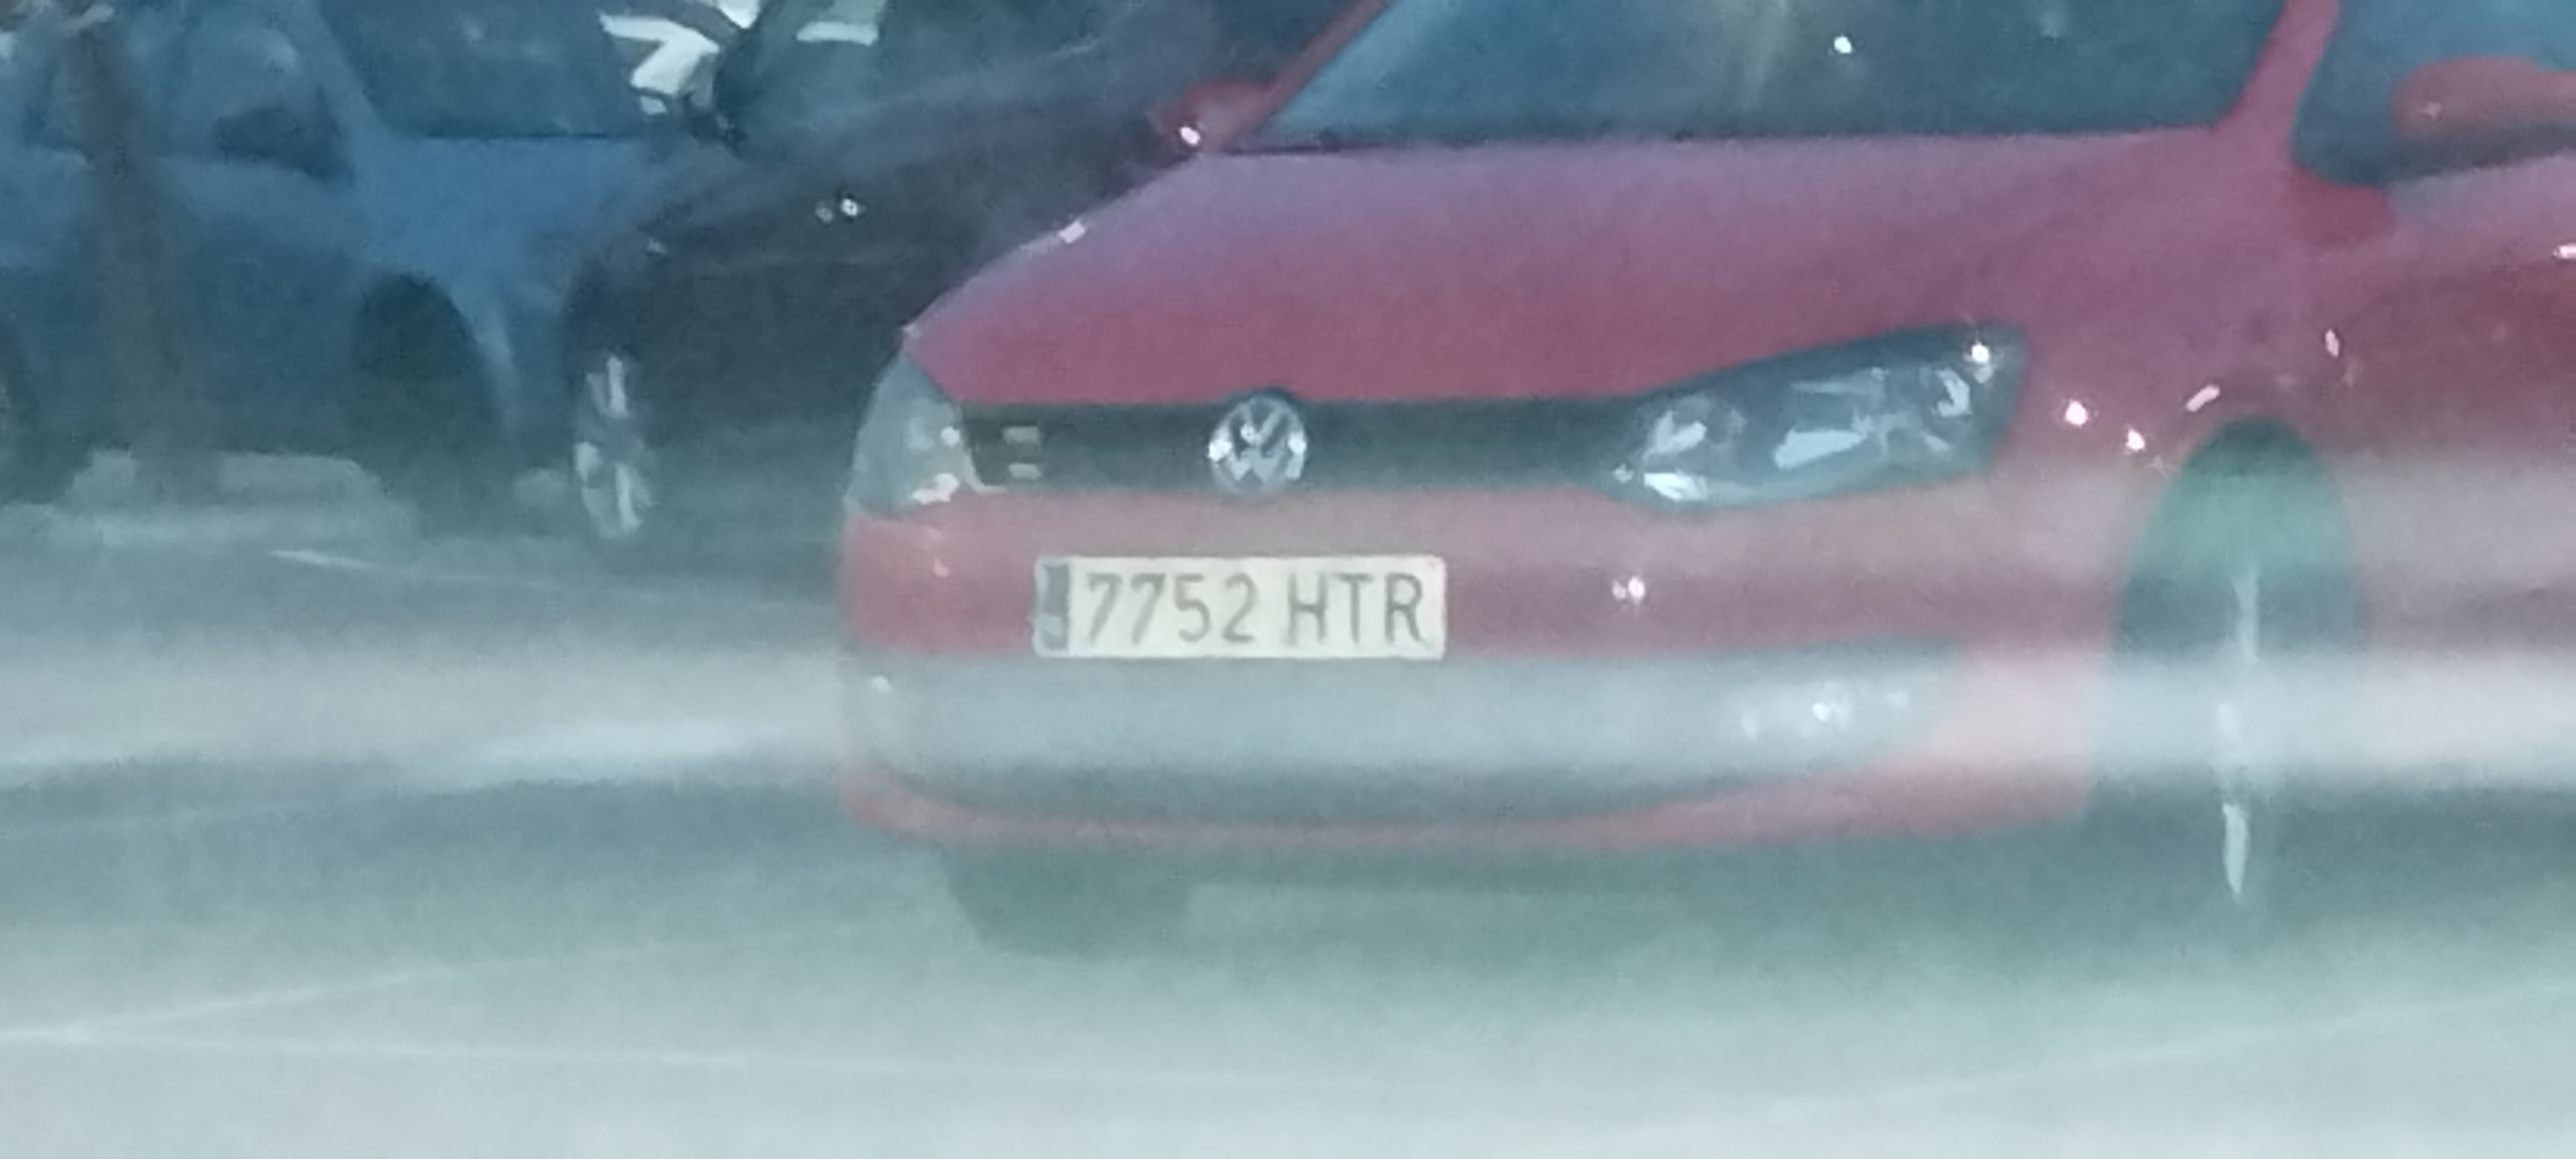Car: (811, 0, 2575, 950)
Plate: (1033, 555, 1450, 659)
